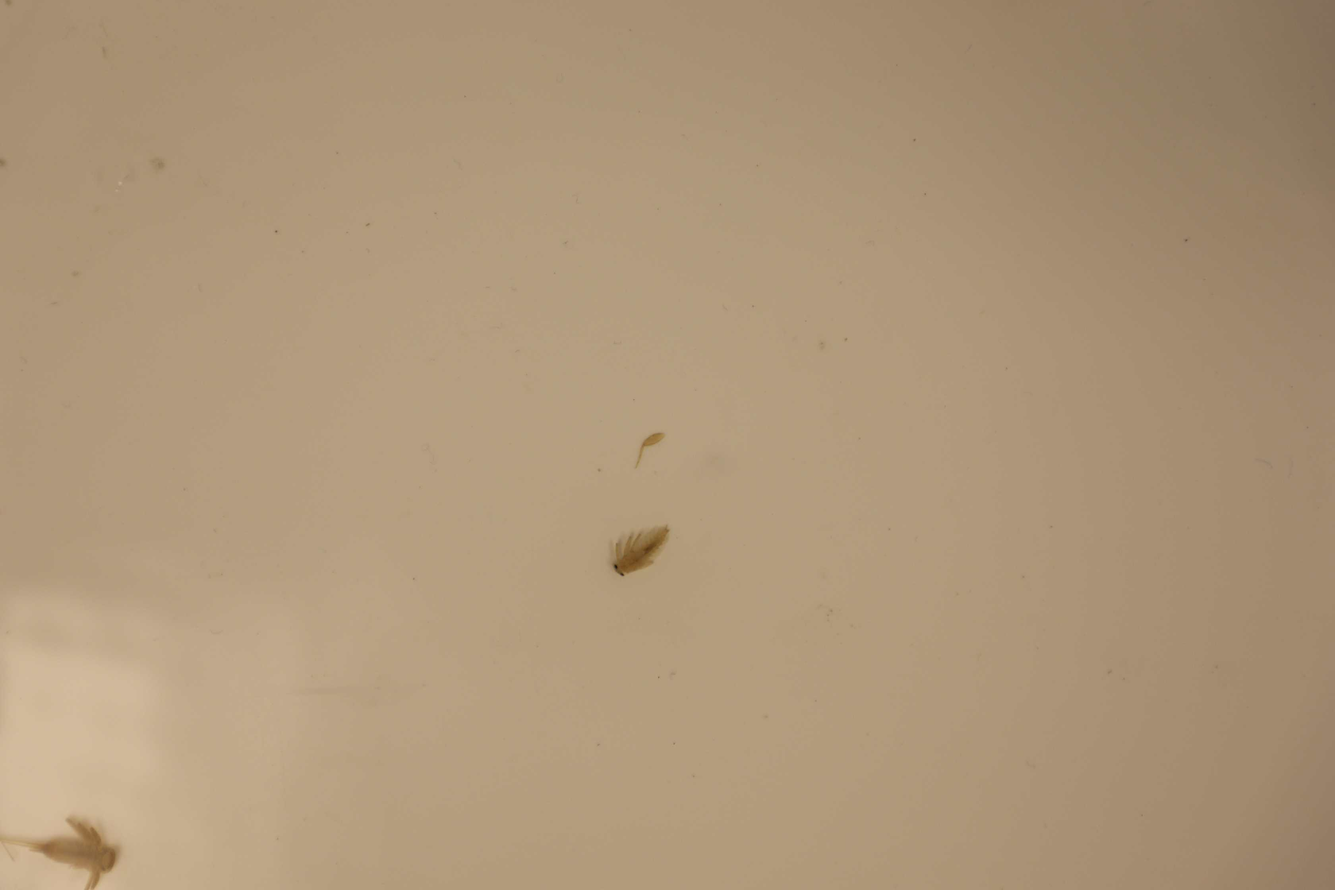Mayfly: (0, 800, 128, 890), (610, 524, 675, 579), (630, 425, 667, 468)
